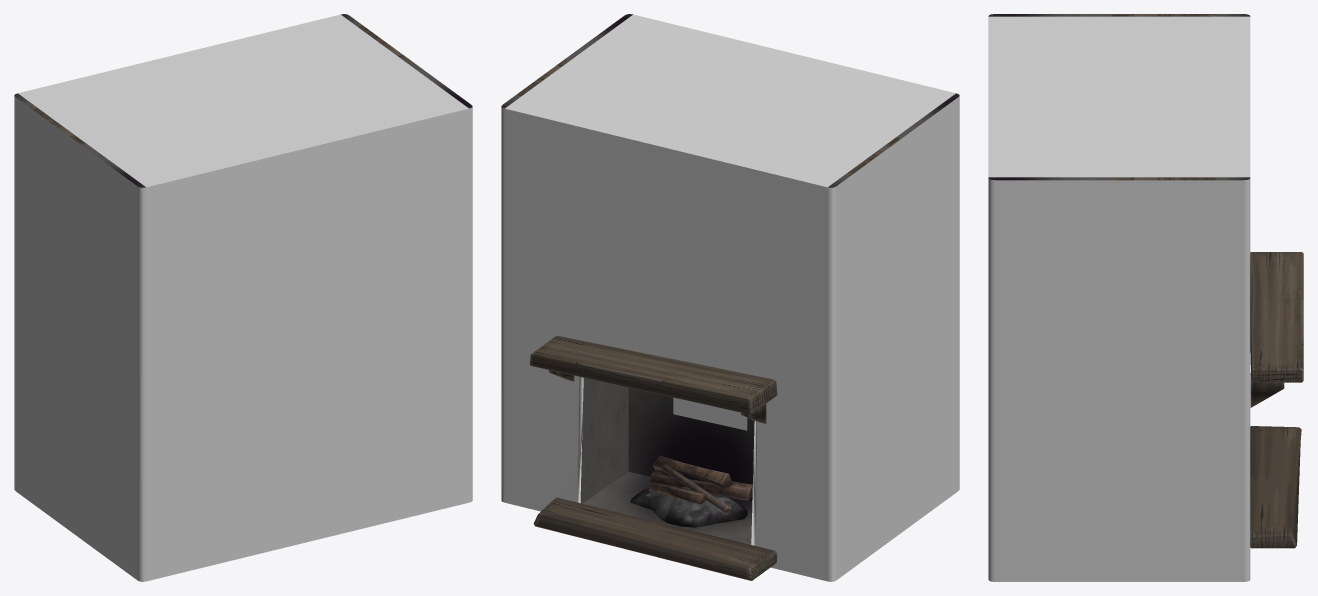
Rendered from fireplace.fbx.
The picture shows the model from 3 angles, left to right: view 1: azimuth 30°, elevation 25°; view 2: azimuth 150°, elevation 25°; view 3: azimuth 270°, elevation 25°; orthographic projection.
Parts seen in each view (by area): view 1: Fireplase; view 2: Fireplase; view 3: Fireplase.
Part boxes in pixels (x1,y1,x2,y2): Fireplase: [14, 14, 472, 581]; Fireplase: [501, 14, 959, 581]; Fireplase: [988, 14, 1303, 581].
Size of the model in its own units: 323 by 364 by 259.
2 materials, 1 textured.
